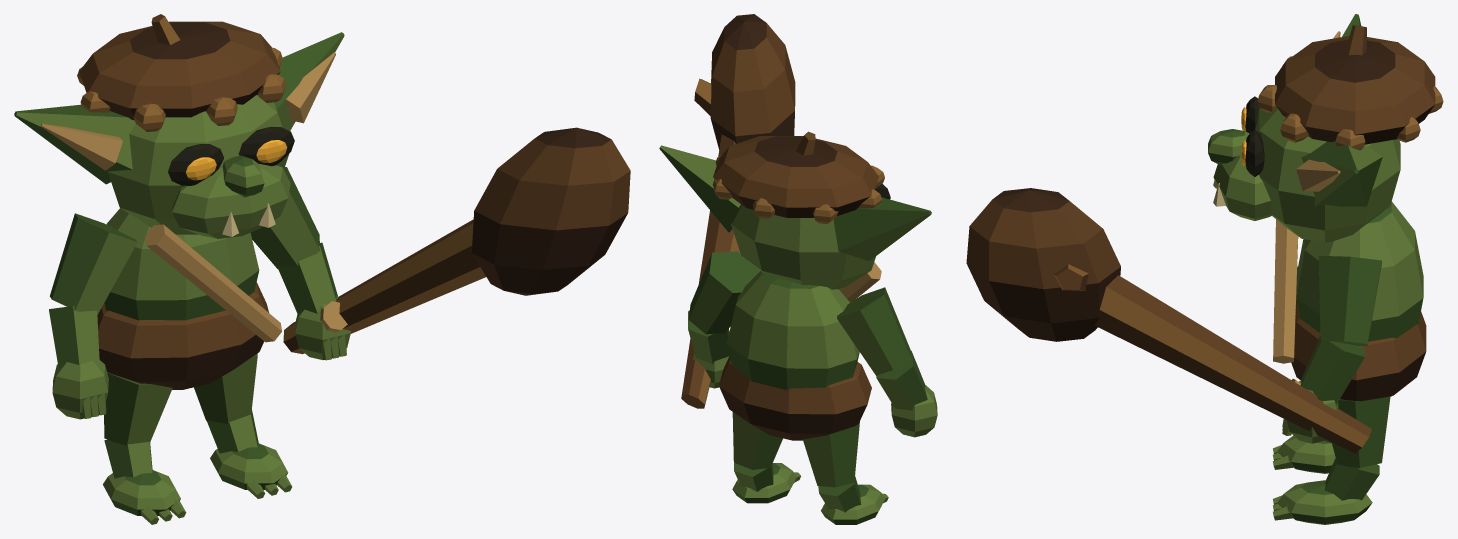
The model's file is Bramblekin.fbx.
3 views of the same model, side by side, from view 1: azimuth 30°, elevation 25°; view 2: azimuth 150°, elevation 25°; view 3: azimuth 270°, elevation 25° (orthographic). The views are drawn at different scales.
Parts seen in each view (by area): view 1: Head, Arm.R, Body, Arm.L, Leg.L, Foot.L, Foot.R, Leg.R, Shin.L, Shin.R; view 2: Head, Body, Arm.R, Arm.L, Leg.L, Leg.R, Foot.L, Foot.R, Shin.L, Shin.R; view 3: Arm.R, Head, Body, Foot.R, Leg.R, Foot.L, Shin.R.
Boxes of the visible parts, x1,y1,x2,y2 form: Head: [14, 14, 344, 238]; Arm.R: [250, 127, 630, 360]; Body: [97, 208, 281, 389]; Arm.L: [49, 213, 137, 419]; Leg.L: [104, 372, 172, 445]; Foot.L: [103, 470, 186, 524]; Foot.R: [210, 443, 292, 498]; Leg.R: [194, 353, 257, 423]; Shin.L: [104, 439, 152, 478]; Shin.R: [206, 409, 258, 453]; Head: [659, 131, 931, 289]; Body: [719, 262, 881, 440]; Arm.R: [681, 14, 795, 408]; Arm.L: [837, 287, 937, 437]; Leg.L: [803, 421, 859, 487]; Leg.R: [732, 412, 782, 469]; Foot.L: [821, 484, 888, 524]; Foot.R: [732, 463, 800, 503]; Shin.L: [818, 476, 860, 512]; Shin.R: [734, 462, 773, 491]; Arm.R: [966, 188, 1381, 453]; Head: [1208, 14, 1443, 242]; Body: [1273, 201, 1426, 401]; Foot.R: [1273, 480, 1372, 524]; Leg.R: [1331, 396, 1390, 467]; Foot.L: [1273, 435, 1335, 473]; Shin.R: [1324, 458, 1379, 500].
Bounding box in the file's own units: 153 × 160 × 150.
